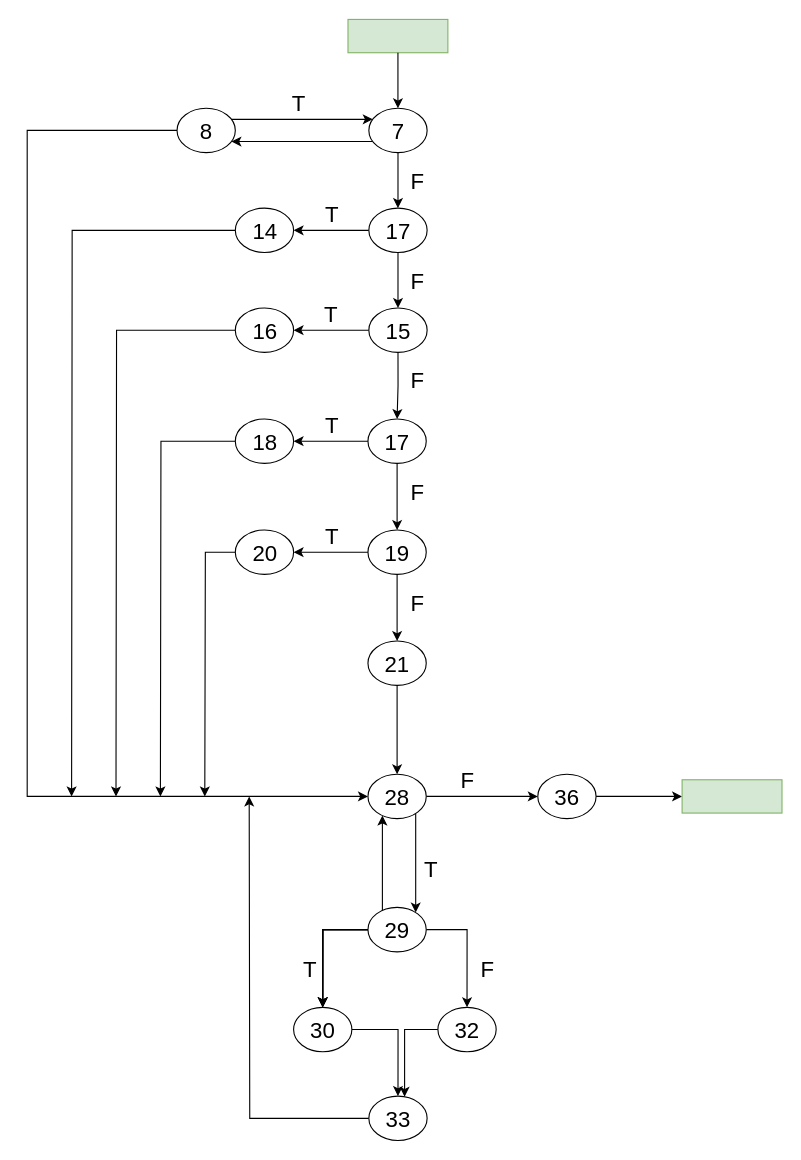
The diagram is 801 pixels wide and 1160 high, and some of its shapes have lost their labels. The shapes that lost their labels are listed below. From the top down, each one's centre as x and y in pixels, then its label:
At point (397, 35): "Enter".
At point (731, 796): "Exit".
